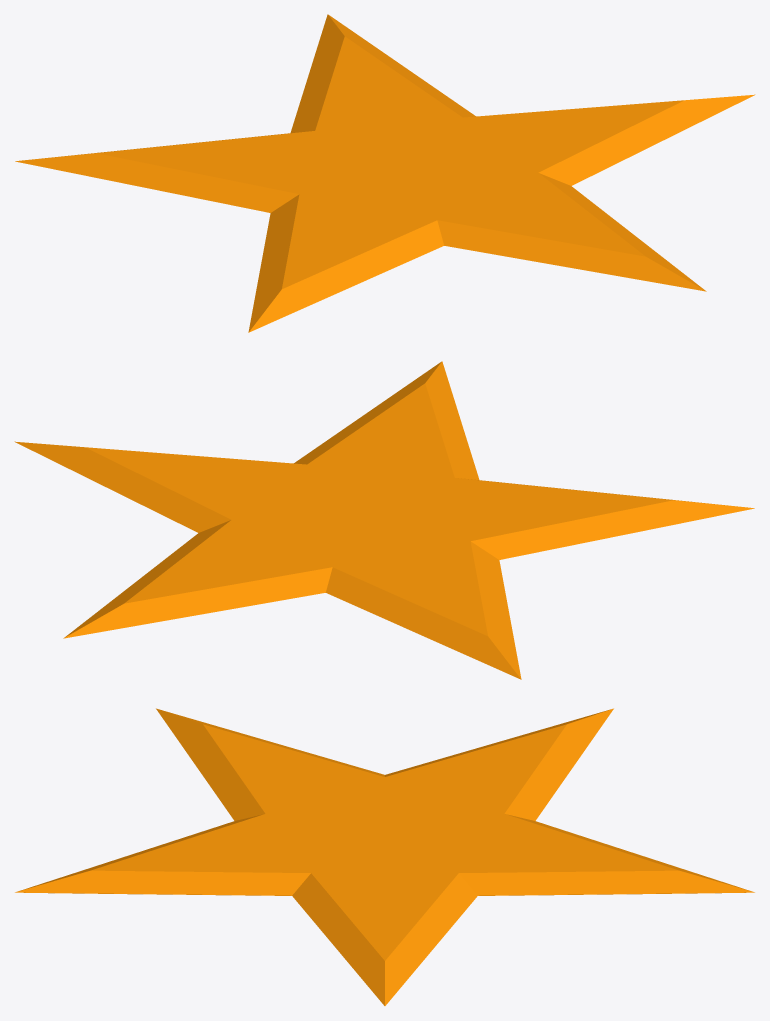
The model's file is estrellaobj.fbx.
3 renders of one model, top to bottom at view 1: azimuth 30°, elevation 25°; view 2: azimuth 150°, elevation 25°; view 3: azimuth 270°, elevation 25°, orthographic. The views are drawn at different scales.
Visible parts, largest first — view 1: Cylinder001; view 2: Cylinder001; view 3: Cylinder001.
Boxes of the visible parts, x1,y1,x2,y2 form: Cylinder001: (15,14,755,332); Cylinder001: (14,361,754,679); Cylinder001: (15,708,754,1005).
Bounding box in the file's own units: 47.04 × 1.7 × 49.46.
